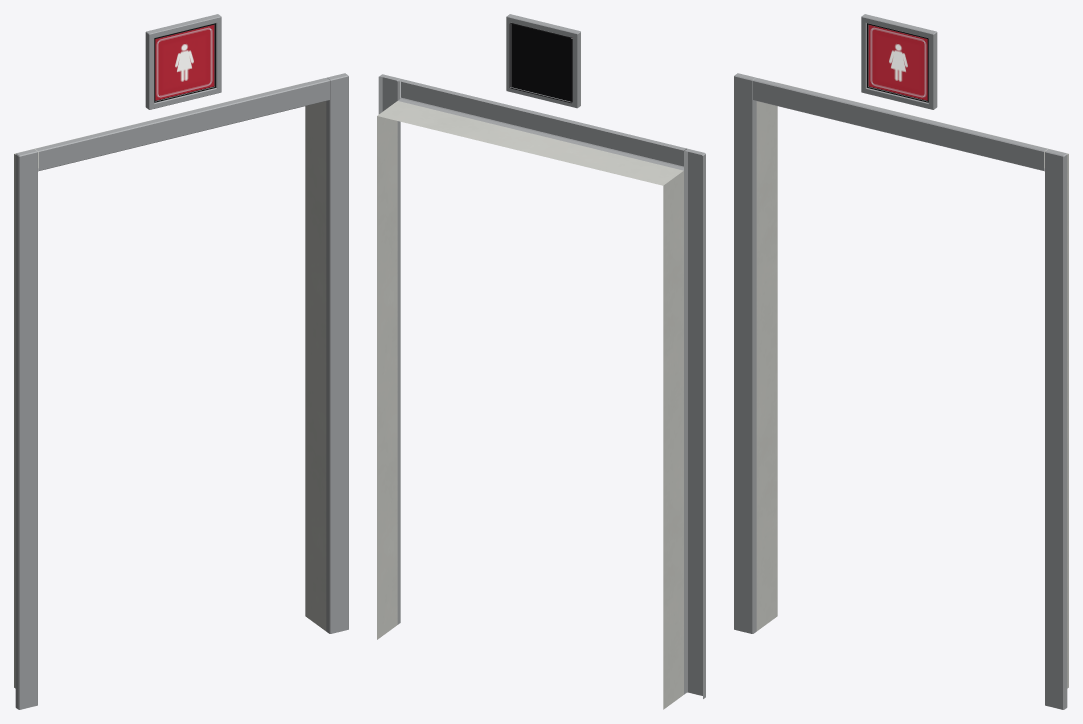
The model's file is gteki_toilet_entrance_female.glb.
The picture shows the model from 3 angles, left to right: view 1: azimuth 30°, elevation 25°; view 2: azimuth 150°, elevation 25°; view 3: azimuth 330°, elevation 25°; orthographic projection.
Parts seen in each view (by area): view 1: VIS_trim, VIS_reveal, VIS_faces, VIS_frame; view 2: VIS_reveal, VIS_trim, VIS_frame; view 3: VIS_trim, VIS_reveal, VIS_faces, VIS_frame.
Boxes of the visible parts, x1,y1,x2,y2 form: VIS_trim: [15, 73, 348, 709]; VIS_reveal: [14, 83, 326, 688]; VIS_faces: [155, 25, 214, 100]; VIS_frame: [145, 14, 221, 109]; VIS_reveal: [377, 101, 683, 709]; VIS_trim: [378, 74, 705, 698]; VIS_frame: [506, 14, 580, 108]; VIS_trim: [734, 73, 1067, 709]; VIS_reveal: [756, 83, 1068, 688]; VIS_faces: [868, 25, 927, 100]; VIS_frame: [861, 14, 937, 109].
Size of what is drawn, in the model's own units: 1.36 by 2.54 by 0.185.
Materials: 4 (2 with a texture image).
